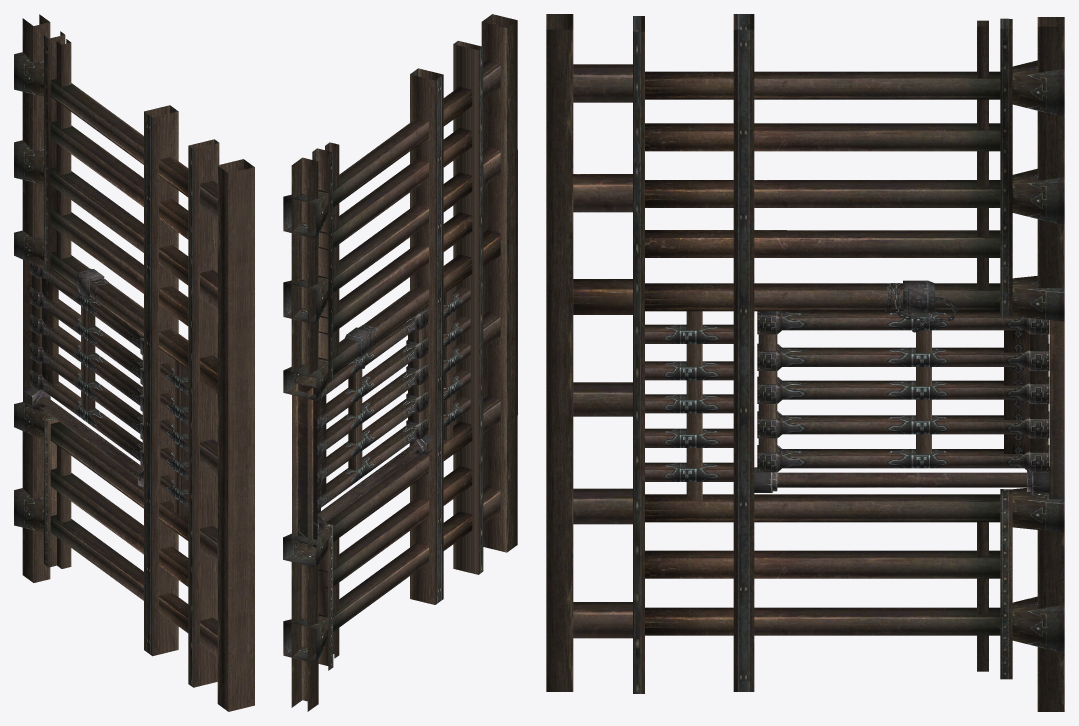
Rendered from SC105Jjy_fangmen.FBX.
The picture shows the model from 3 angles, left to right: view 1: azimuth 30°, elevation 25°; view 2: azimuth 150°, elevation 25°; view 3: azimuth 270°, elevation 25°; orthographic projection. The views are drawn at different scales.
Visible parts, largest first — view 1: SC105Jjy_fangmen01; view 2: SC105Jjy_fangmen01; view 3: SC105Jjy_fangmen01, SC105Jjy_fangmen02.
Part boxes in pixels (left/top/right/bottom): SC105Jjy_fangmen01: left=14, top=14, right=254, bottom=711; SC105Jjy_fangmen01: left=283, top=14, right=517, bottom=711; SC105Jjy_fangmen01: left=546, top=14, right=1064, bottom=711; SC105Jjy_fangmen02: left=885, top=283, right=957, bottom=332.
Size of the model in its own units: 0.3969 by 6.22 by 4.26.
